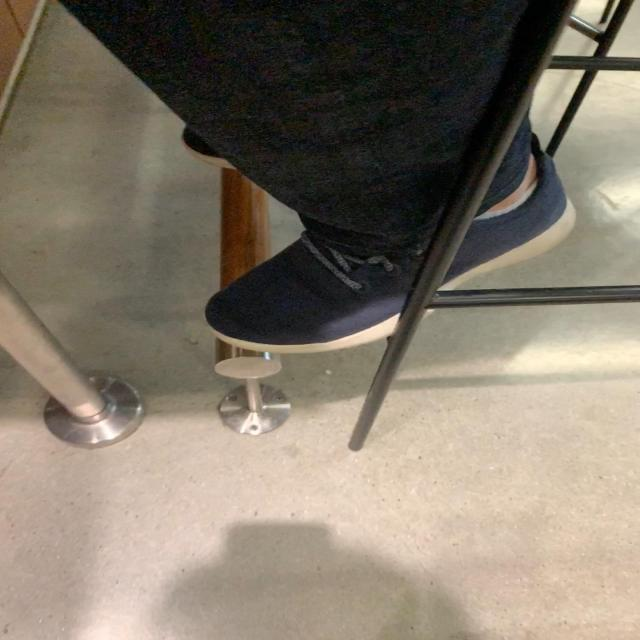shoe: (189, 126, 577, 351)
